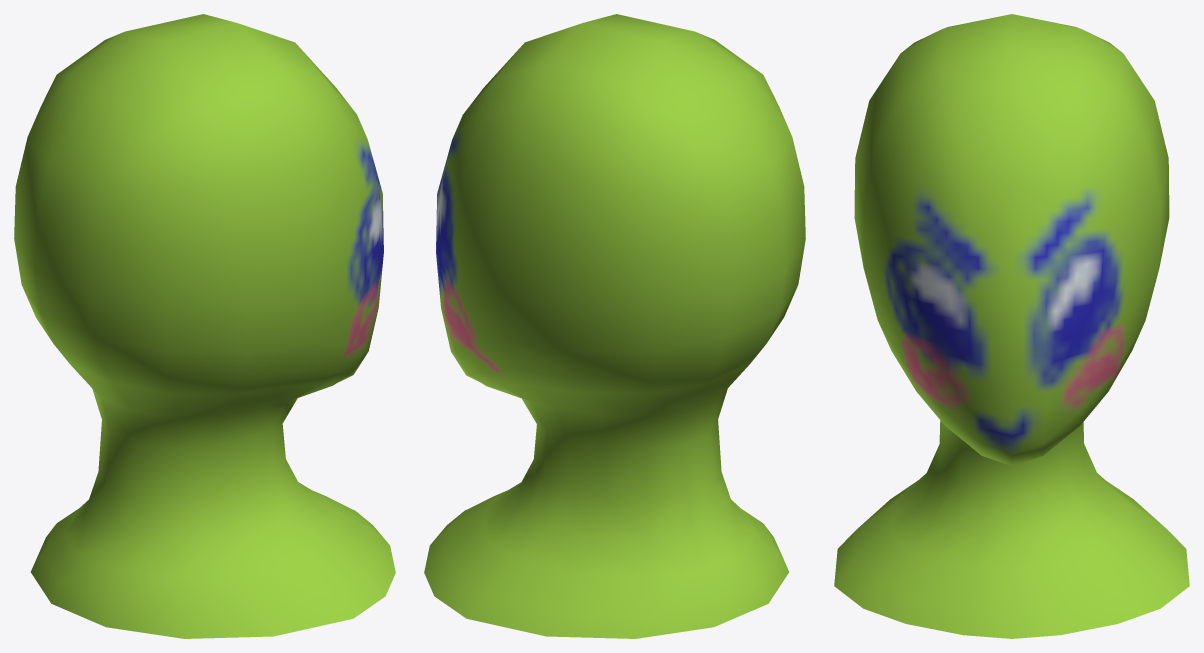
File: Prop_023_Wigstand_002.fbx
3 renders of one model, left to right at view 1: azimuth 30°, elevation 25°; view 2: azimuth 150°, elevation 25°; view 3: azimuth 270°, elevation 25°, orthographic. The views are drawn at different scales.
Parts seen in each view (by area): view 1: Prop_023_Wigstand_002; view 2: Prop_023_Wigstand_002; view 3: Prop_023_Wigstand_002.
Part boxes in pixels (bbox=[...]): Prop_023_Wigstand_002: bbox=[14, 14, 395, 638]; Prop_023_Wigstand_002: bbox=[424, 14, 805, 638]; Prop_023_Wigstand_002: bbox=[834, 14, 1189, 638].
Size of the model in its own units: 0.2994 by 0.4515 by 0.2777.
Materials: 1 (1 with a texture image).
